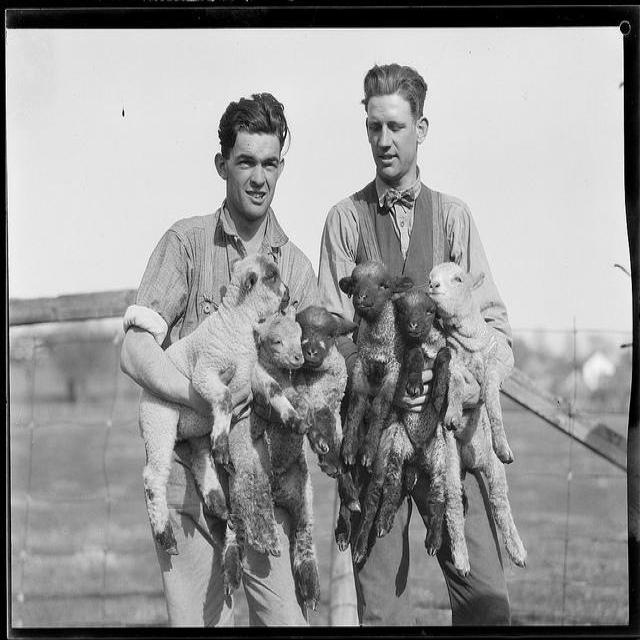Sheep: (144, 258, 307, 560), (237, 313, 330, 613), (376, 288, 451, 558), (428, 257, 520, 472), (291, 306, 360, 550), (340, 263, 414, 469)
